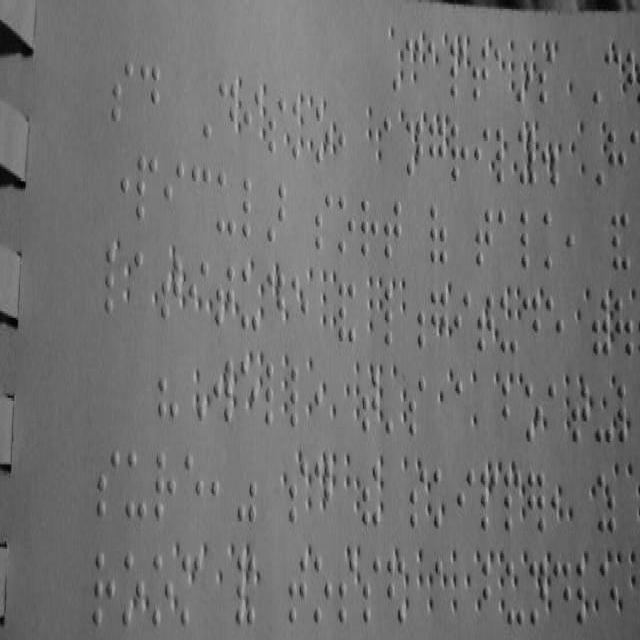braiile: (92, 550, 116, 628), (96, 447, 120, 522), (110, 56, 134, 126), (151, 551, 173, 627), (125, 448, 147, 521), (154, 448, 176, 521), (136, 153, 158, 224), (163, 158, 185, 229), (191, 161, 211, 235), (184, 448, 204, 521), (218, 78, 238, 149), (216, 169, 236, 240), (288, 556, 308, 626), (362, 556, 382, 626), (242, 172, 262, 241), (608, 126, 628, 194), (104, 248, 124, 316), (240, 266, 260, 334), (140, 60, 160, 127), (598, 560, 618, 627), (360, 194, 380, 259), (520, 206, 540, 270), (543, 208, 563, 272), (456, 468, 476, 532), (314, 556, 332, 626), (553, 559, 571, 628), (450, 122, 470, 184), (474, 207, 494, 269), (288, 462, 308, 524), (502, 471, 522, 533), (243, 86, 261, 154), (134, 248, 152, 316), (268, 93, 286, 160), (428, 120, 446, 187), (383, 199, 403, 259), (382, 286, 402, 346), (472, 38, 490, 104), (382, 114, 400, 179), (545, 294, 563, 359), (265, 363, 283, 428), (290, 363, 308, 428), (315, 191, 333, 253), (337, 191, 355, 253), (497, 207, 515, 269), (522, 296, 540, 358), (409, 372, 426, 437), (473, 126, 491, 186), (455, 376, 473, 436), (502, 381, 520, 441), (572, 384, 590, 444), (410, 470, 428, 530), (548, 382, 566, 440), (454, 291, 471, 349)
